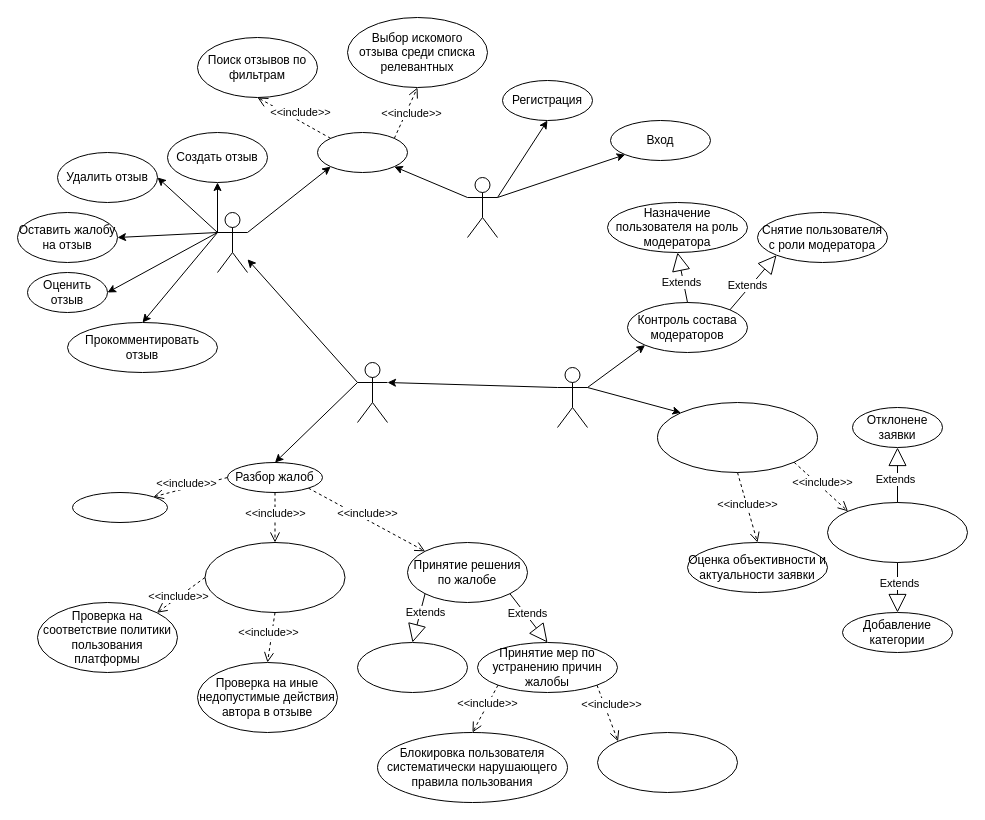
Some shapes in this 985 by 820 pixel diagram are drawn without their labels. The box of each missing label's shape, as (x1, y1, x2, y2) in pixels:
Администратор: (556, 366, 588, 428)
Выбор жалобы: (72, 492, 168, 522)
Ликвидация необоснованной жалобы: (356, 642, 468, 692)
Модератор: (356, 362, 388, 422)
Принятие решения по заявке: (826, 502, 968, 562)
Провверка отзыва на который была отправлена жалоба: (204, 542, 345, 612)
Просмотр отзыва: (316, 132, 408, 172)
Рассмотрение заявок на добавление категорий отзывов: (656, 402, 818, 472)
Стандартный авторизованный пользователь: (216, 212, 248, 272)
Стандартный неавторизованный пользователь: (466, 176, 498, 238)
Удаление отзывов нарушающих правила пользования: (596, 732, 738, 792)
